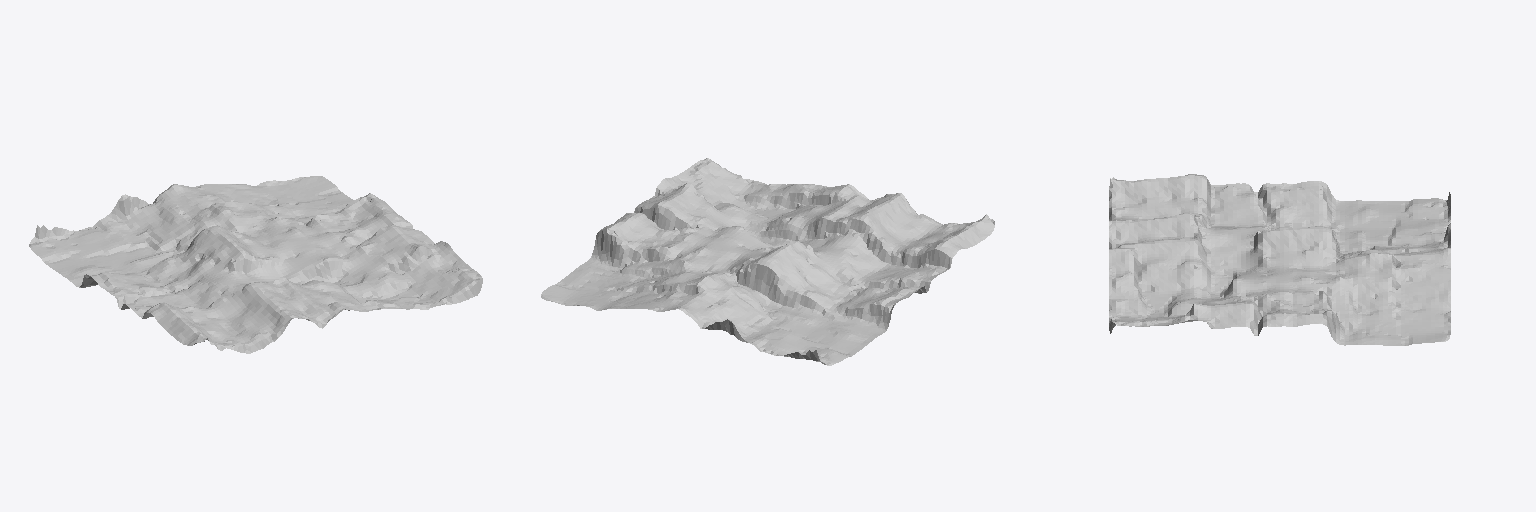
The model's file is DesertCliff.obj.
The picture shows the model from 3 angles: view 1: azimuth 30°, elevation 25°; view 2: azimuth 150°, elevation 25°; view 3: azimuth 270°, elevation 25°; orthographic projection.
Visible parts, largest first — view 1: Grid; view 2: Grid; view 3: Grid.
Part boxes in pixels (left/top/right/bottom): Grid: left=29, top=176, right=482, bottom=353; Grid: left=541, top=158, right=994, bottom=365; Grid: left=1109, top=174, right=1450, bottom=345.
Bounding box in the file's own units: 1.98 × 0.2323 × 1.98.